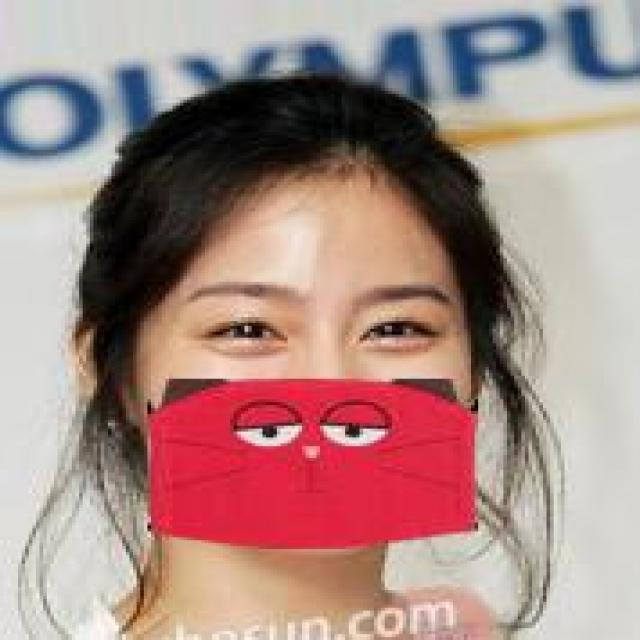mask: (90, 88, 557, 564)
